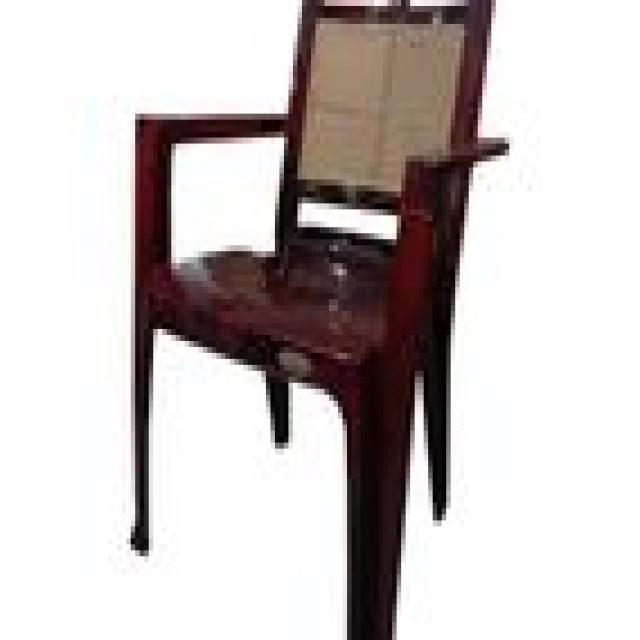others: (81, 6, 541, 640)
